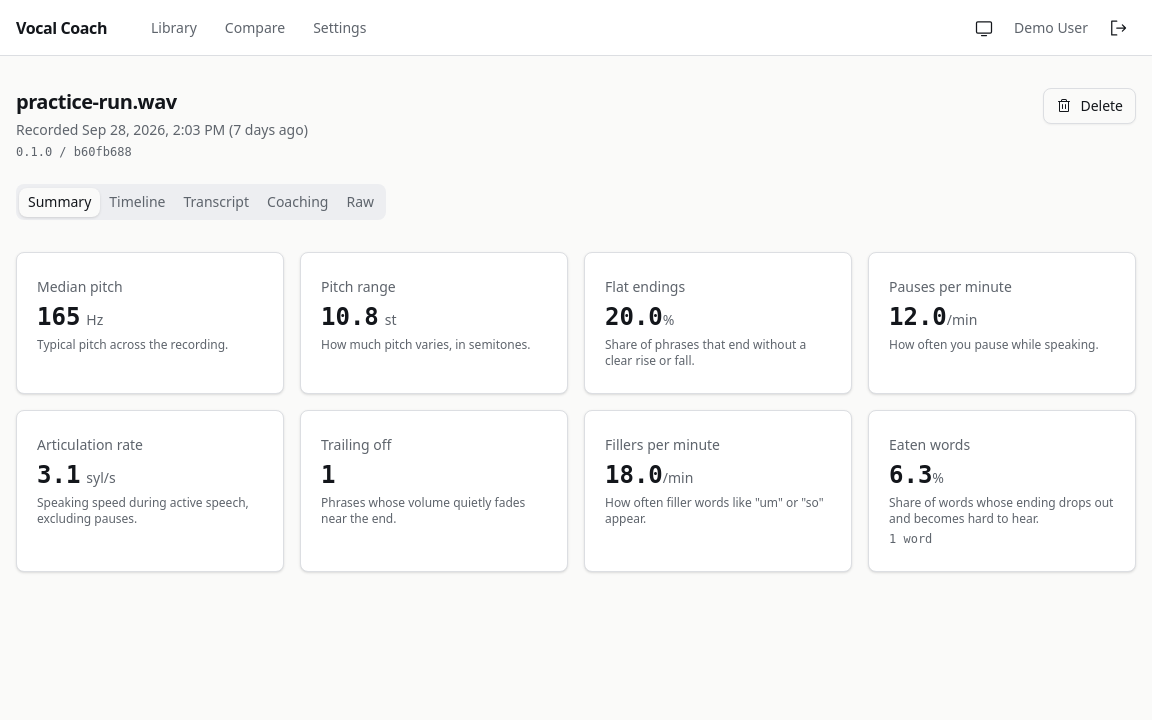
AnalysisPage › shows the coaching-unavailable state with warnings when coaching is null
The image size is (1152, 720).
Expected: the heading "practice-run.wav" is shown, [16,88,177,115]
Click the tab "Coaching". click: (298, 202)
box: [258,188,337,216]
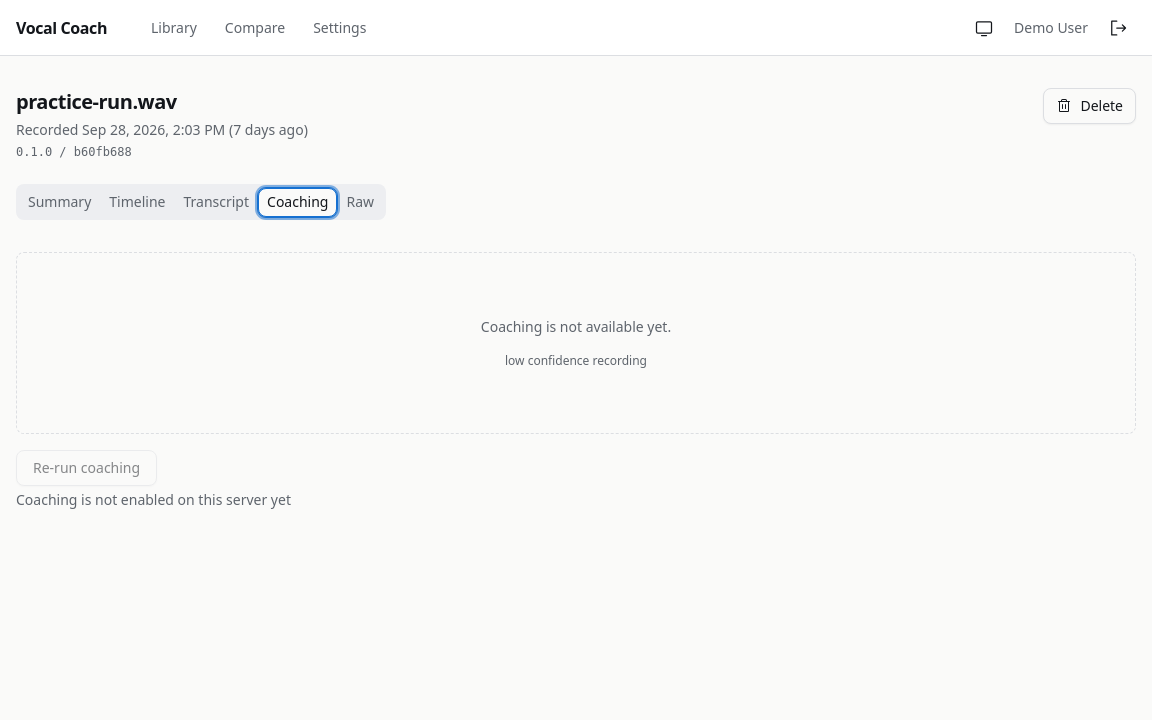
Now the text "Coaching is not available yet." is shown, box [481,317,671,337]
Now the list item "low confidence recording" is shown, box [505,353,647,369]
